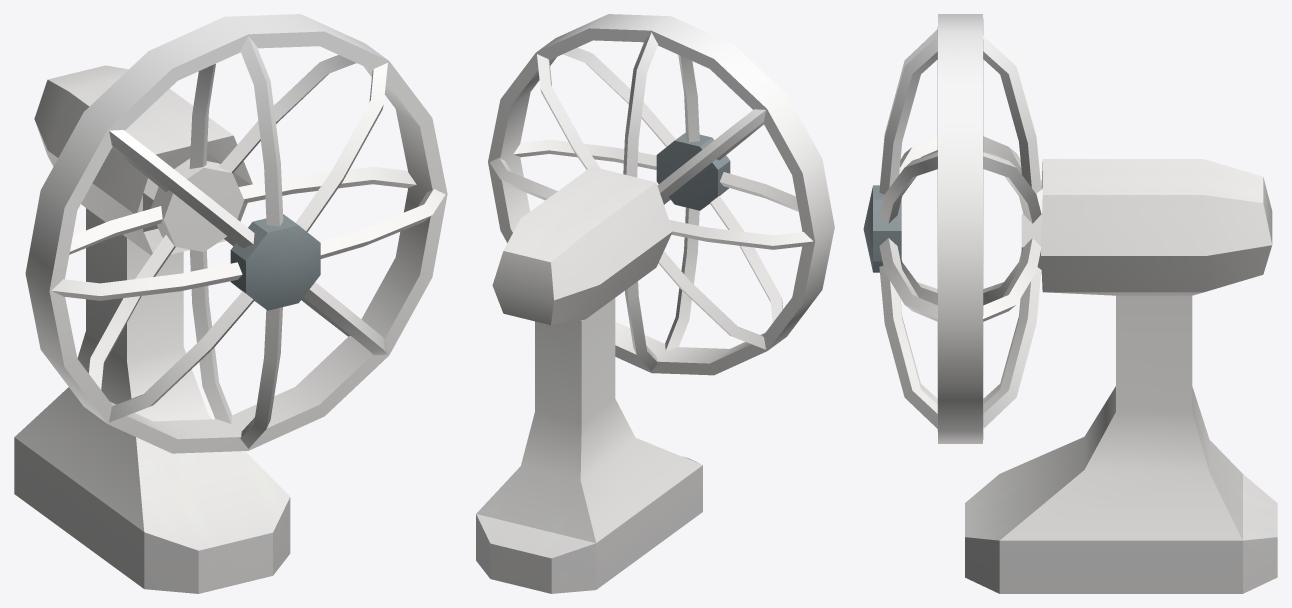
File: DeskFan.fbx
3 renders of one model, left to right at view 1: azimuth 30°, elevation 25°; view 2: azimuth 150°, elevation 25°; view 3: azimuth 270°, elevation 25°, orthographic. The views are drawn at different scales.
Parts seen in each view (by area): view 1: DeskFan; view 2: DeskFan; view 3: DeskFan.
Part boxes in pixels (x1,y1,x2,y2): DeskFan: [14, 14, 447, 593]; DeskFan: [476, 14, 834, 593]; DeskFan: [863, 14, 1277, 593].
Size of the model in its own units: 42.23 by 56.91 by 40.61.
